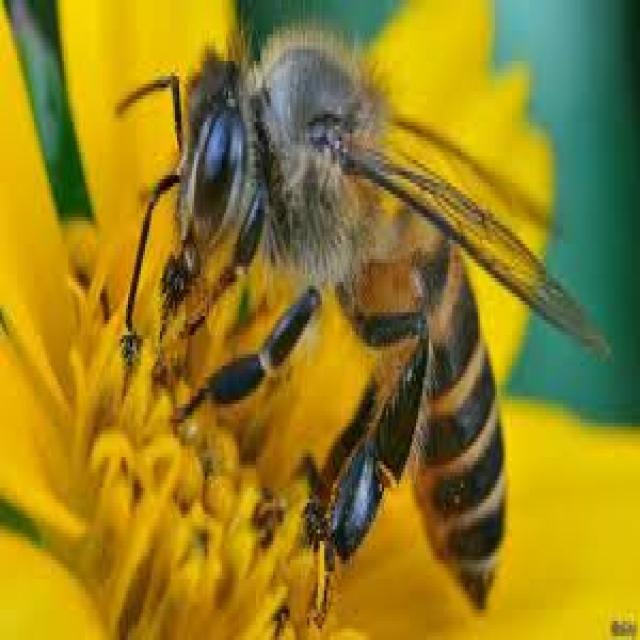Bees: (111, 23, 611, 623)
